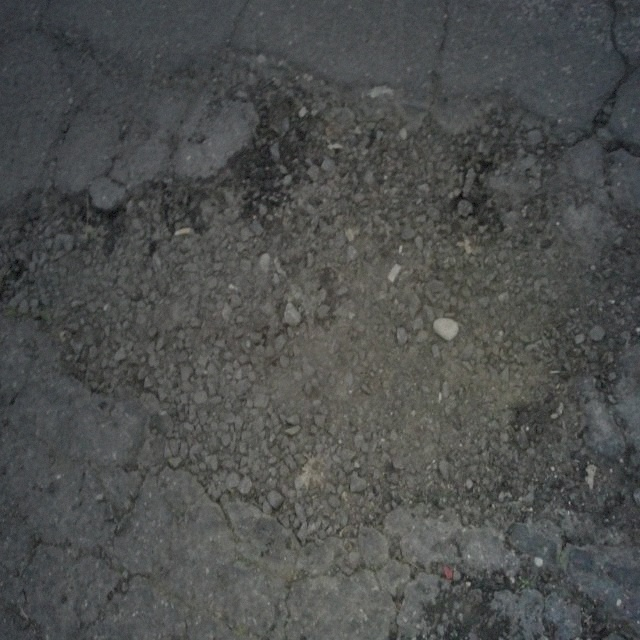pothole: (21, 58, 608, 562)
